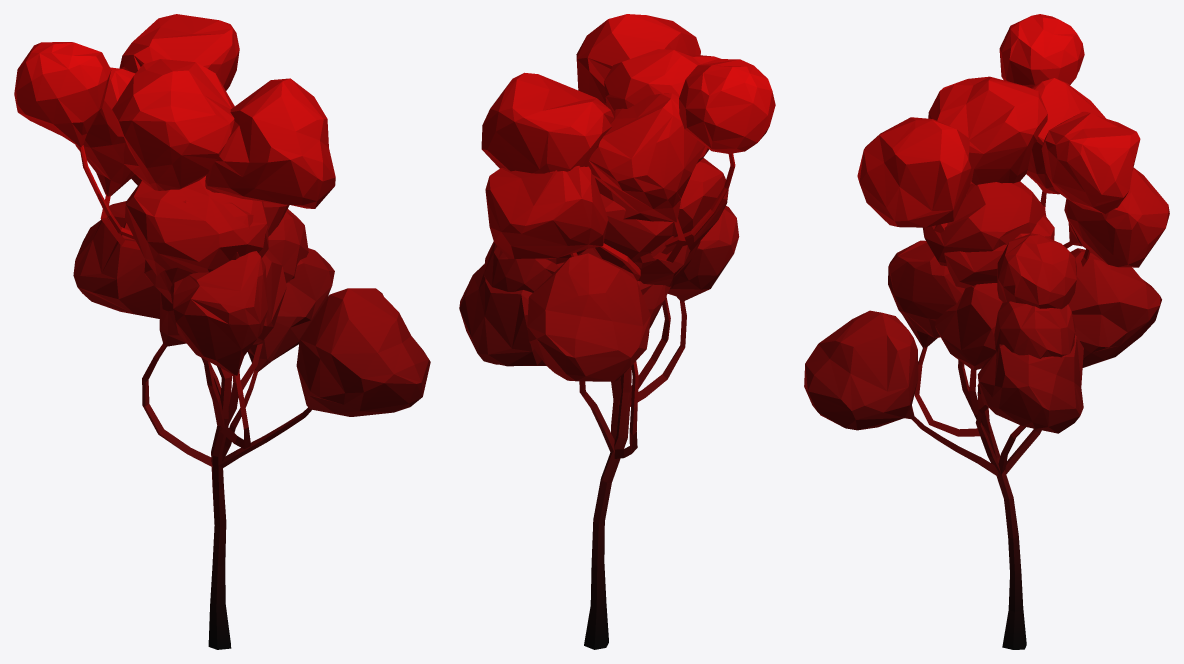
File: TreeEuca06.fbx
3 renders of one model, left to right at view 1: azimuth 30°, elevation 25°; view 2: azimuth 150°, elevation 25°; view 3: azimuth 270°, elevation 25°, orthographic. The views are drawn at different scales.
Visible parts, largest first — view 1: TreeEuca06_LOD0; view 2: TreeEuca06_LOD0; view 3: TreeEuca06_LOD0.
Part boxes in pixels (box(x1,y1,x2,y2)): TreeEuca06_LOD0: box(14, 14, 430, 649); TreeEuca06_LOD0: box(459, 14, 775, 649); TreeEuca06_LOD0: box(804, 14, 1169, 649).
Size of what is drawn, in the model's own units: 419 by 810 by 477.
